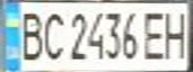2: (66, 7, 87, 62)
3: (103, 8, 124, 61)
4: (84, 8, 106, 61)
6: (121, 8, 145, 61)
B: (12, 7, 45, 62)
C: (39, 7, 66, 62)
E: (139, 7, 172, 61)
H: (160, 7, 193, 60)
